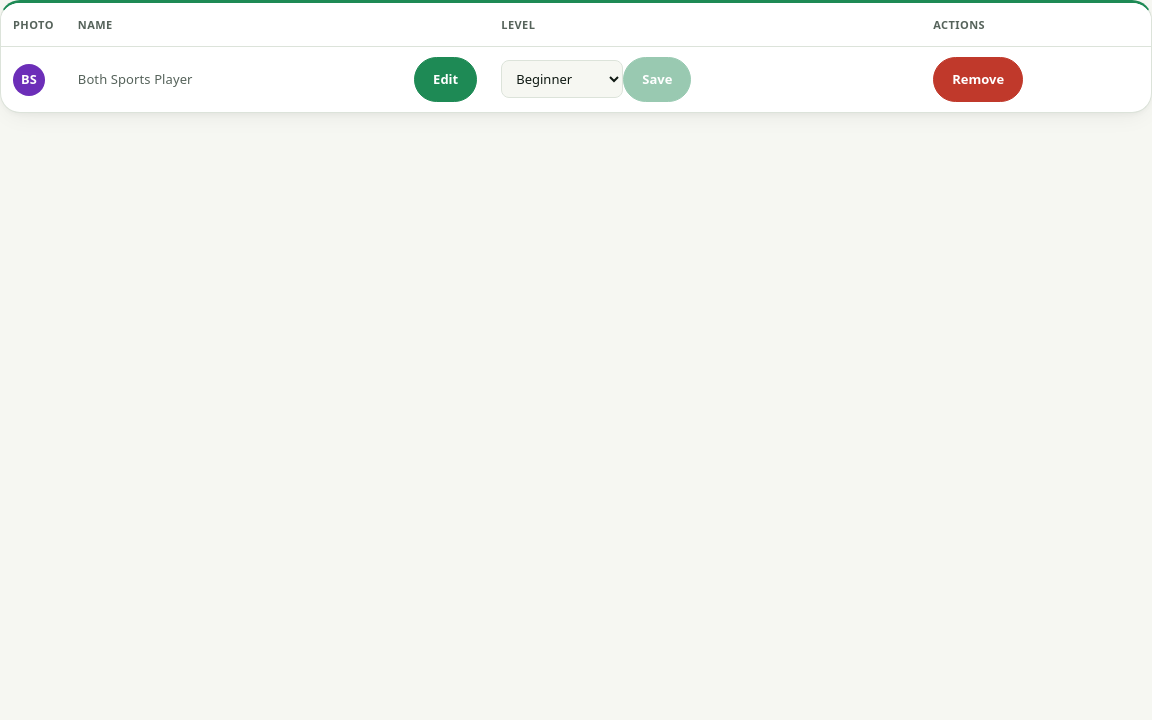
PlayerList remove member › shows the other-sport body ("stays a member of Tennis") for a person in both sports
The image size is (1152, 720).
Click the button "Remove" at (978, 80), box [933,57,1023,102]
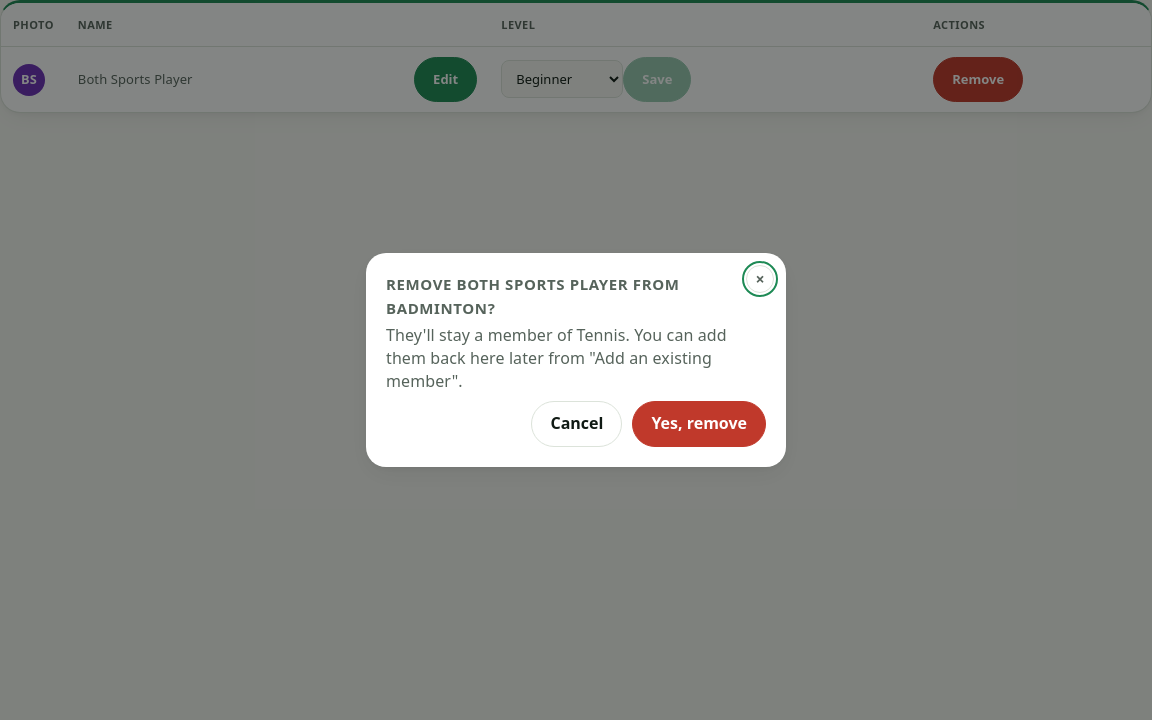
expect the text "stay a member of Tennis" is shown: met, box [386,324,727,392]
